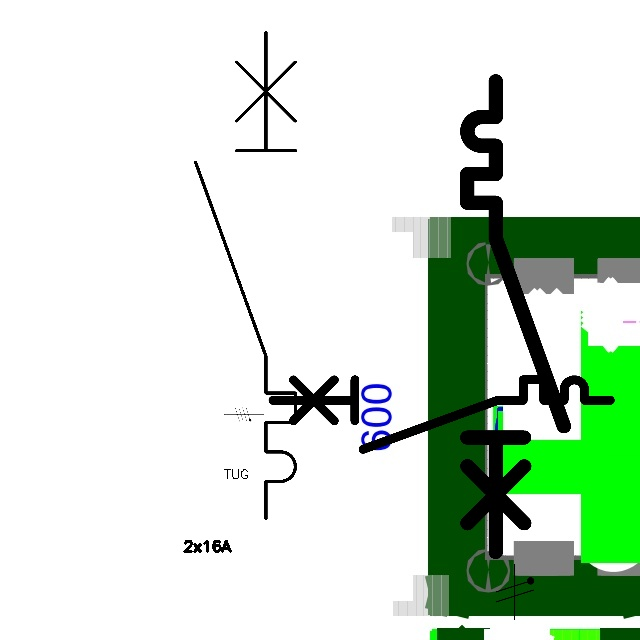interruptor_termomagnetico: (183, 20, 308, 531), (455, 69, 576, 564), (264, 371, 619, 457)
